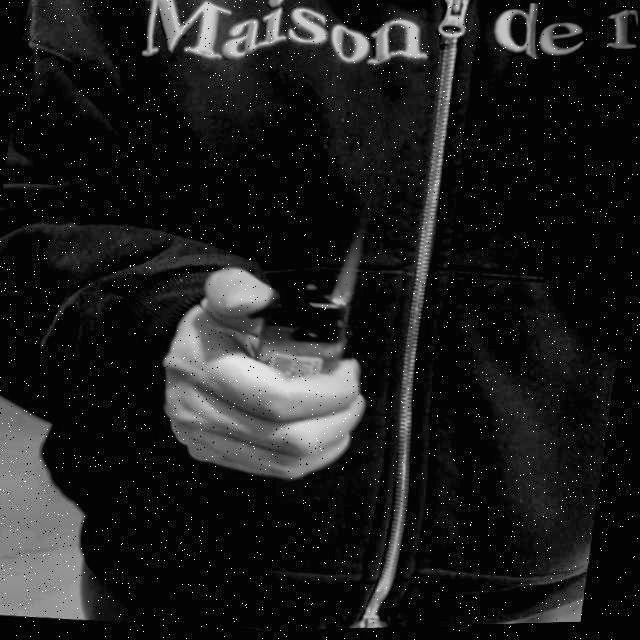Fire: (328, 224, 369, 304)
